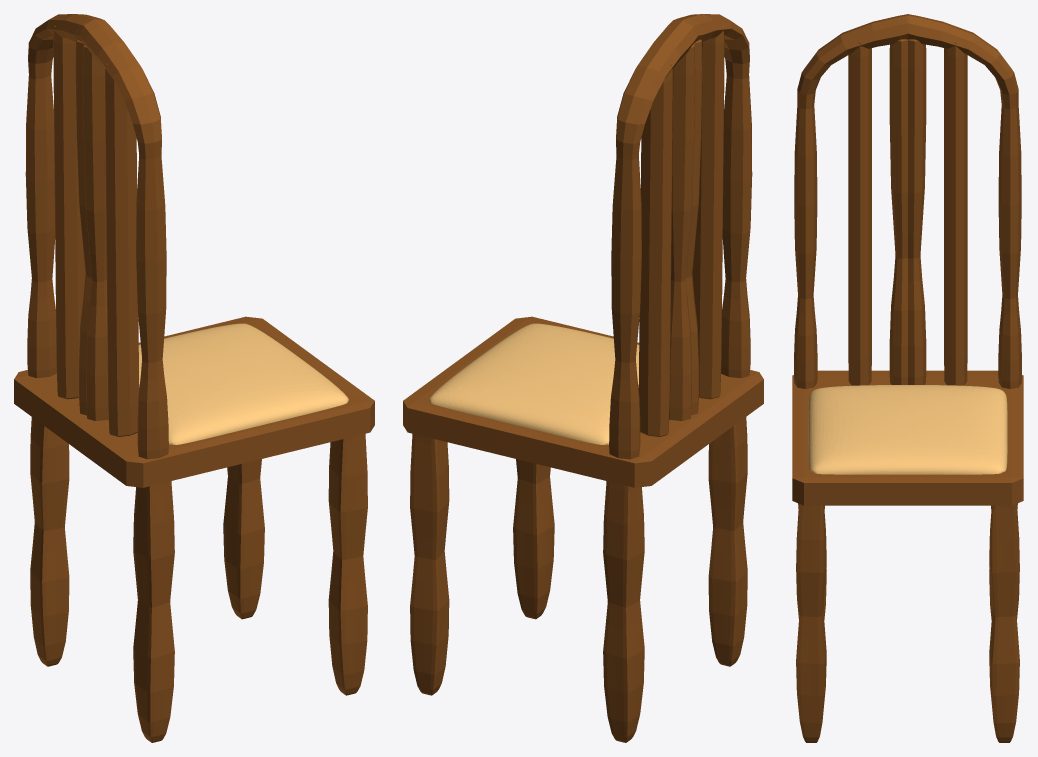
The model's file is Chair.fbx.
The picture shows the model from 3 angles, left to right: view 1: azimuth 30°, elevation 25°; view 2: azimuth 150°, elevation 25°; view 3: azimuth 270°, elevation 25°; orthographic projection. The views are drawn at different scales.
Visible parts, largest first — view 1: Cube.001, Cube.002, Cube, Cube.003; view 2: Cube.001, Cube.002, Cube, Cube.003; view 3: Cube.001, Cube.003, Cube.002, Cube.
Boxes of the visible parts, <box> form: Cube.001: <box>25,14,168,459</box>; Cube.002: <box>30,417,367,742</box>; Cube: <box>14,316,374,487</box>; Cube.003: <box>138,323,348,444</box>; Cube.001: <box>609,14,752,459</box>; Cube.002: <box>410,417,747,742</box>; Cube: <box>403,316,763,487</box>; Cube.003: <box>429,323,639,444</box>; Cube.001: <box>794,14,1021,388</box>; Cube.003: <box>808,385,1007,474</box>; Cube.002: <box>796,503,1019,742</box>; Cube: <box>792,370,1023,505</box>.
Size of the model in its own units: 359 by 312 by 943.
